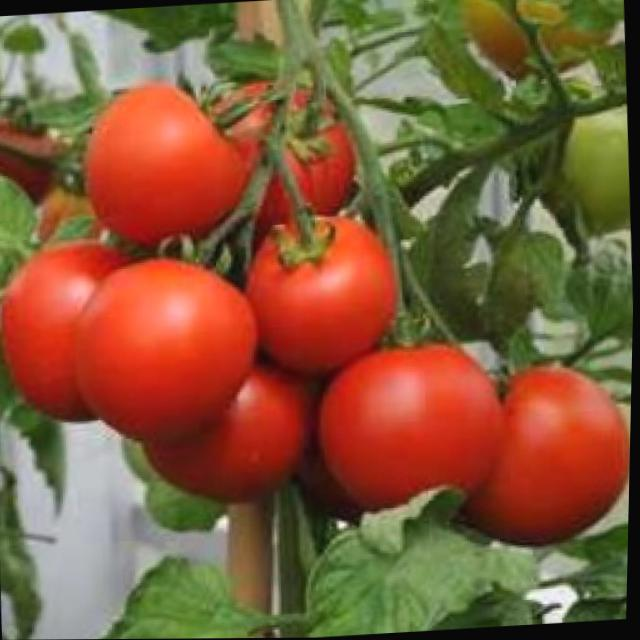tomato: (72, 256, 269, 442), (313, 345, 509, 518), (78, 79, 265, 256), (462, 364, 634, 553), (242, 193, 405, 387), (0, 241, 153, 431), (149, 366, 318, 511), (276, 118, 368, 222)
